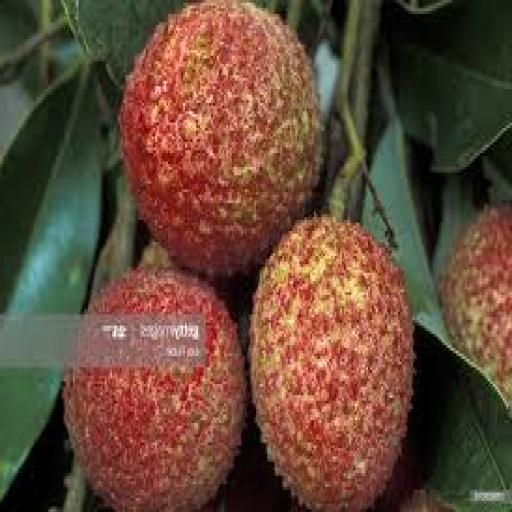lychee: (119, 0, 318, 272), (250, 218, 413, 511), (63, 270, 245, 511), (440, 206, 511, 403)
